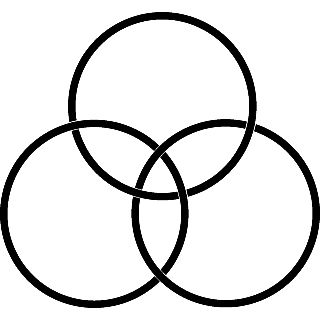circulo: (67, 12, 257, 200), (132, 118, 320, 308), (1, 120, 189, 309)
